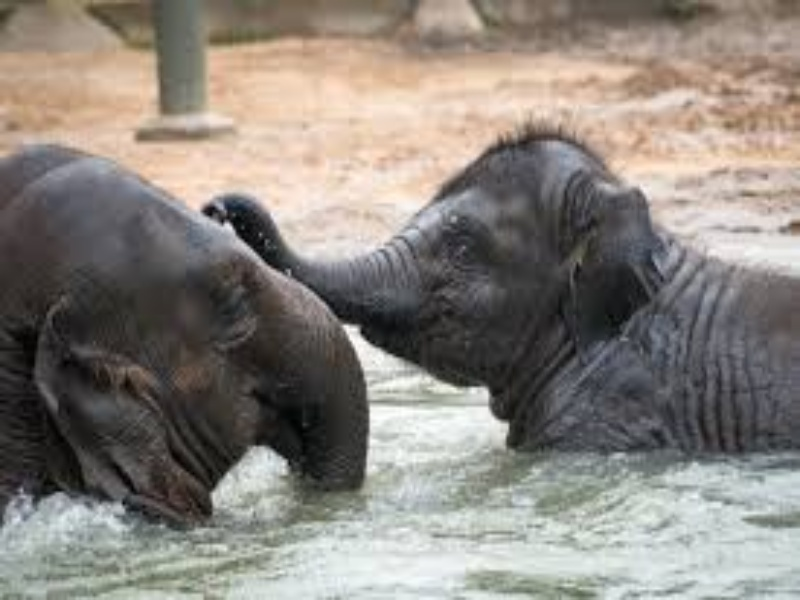elephant: (312, 54, 800, 534), (1, 140, 377, 581)
